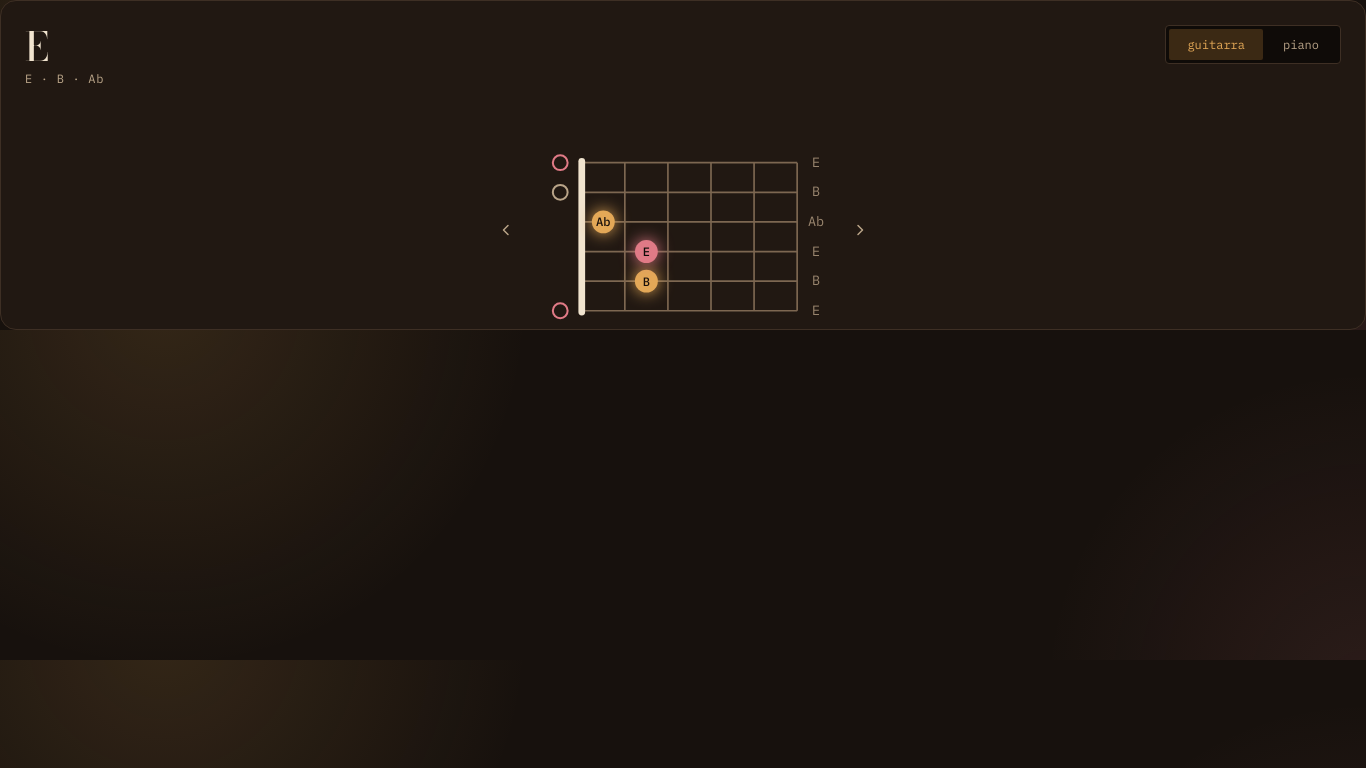
Test: ErChordEditor component › switches between guitar and piano and performs octave folding into [48, 71]
Click the button with class "er-seg-opt" showing "piano": (1301, 44) [1265,29,1337,60]
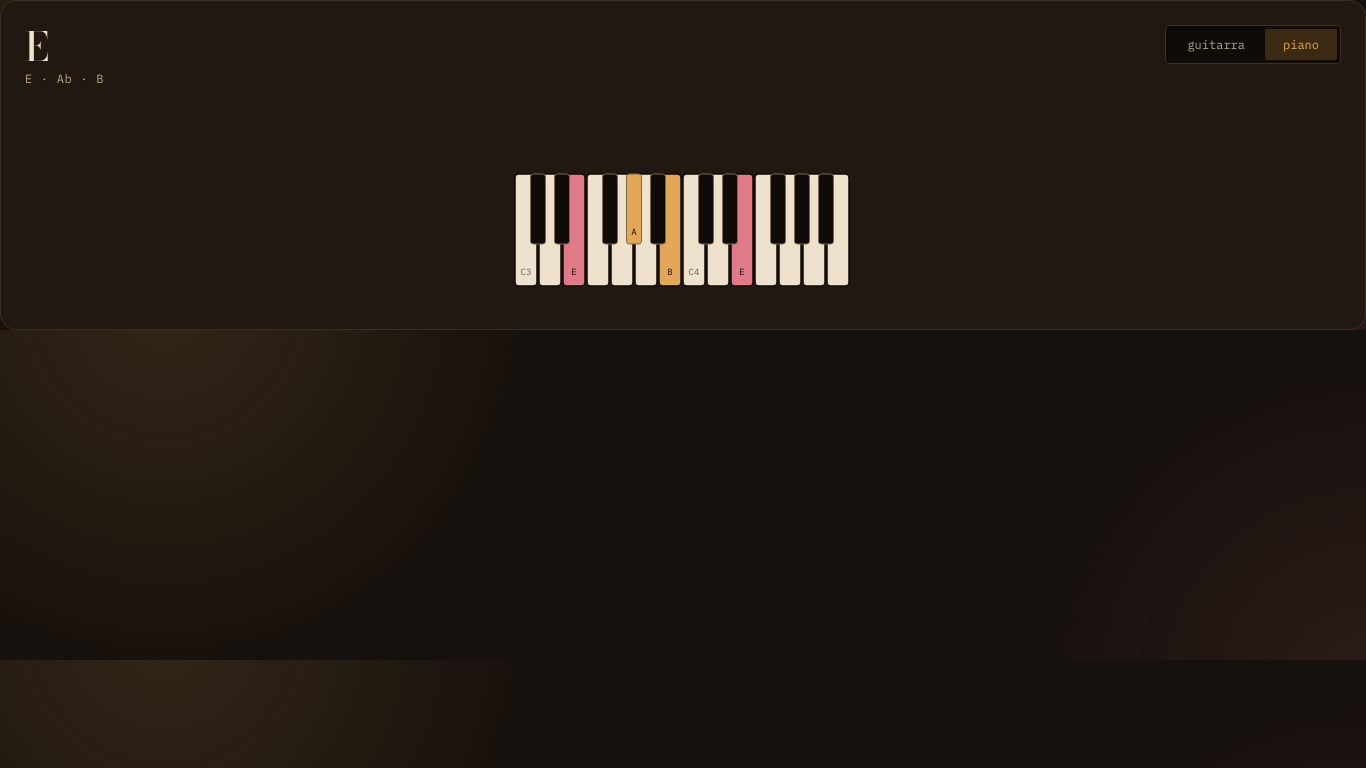
Expected: the picture named "Teclado de piano" is shown, [514,173,852,287]
